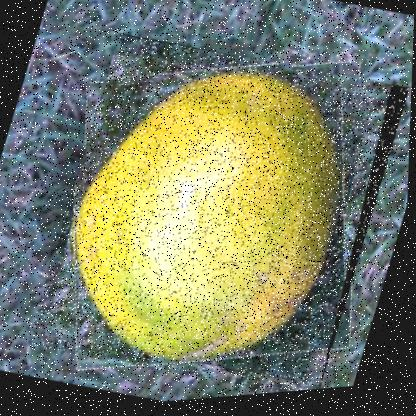orange: (26, 13, 414, 413)
